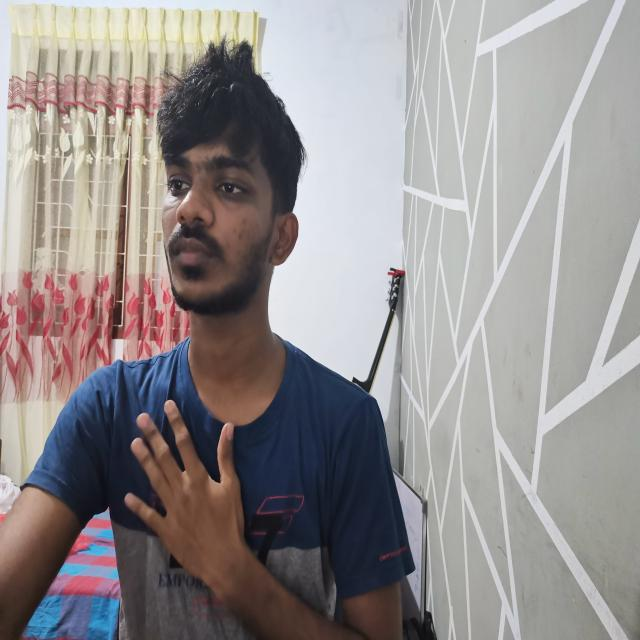Please: (119, 393, 408, 637)
